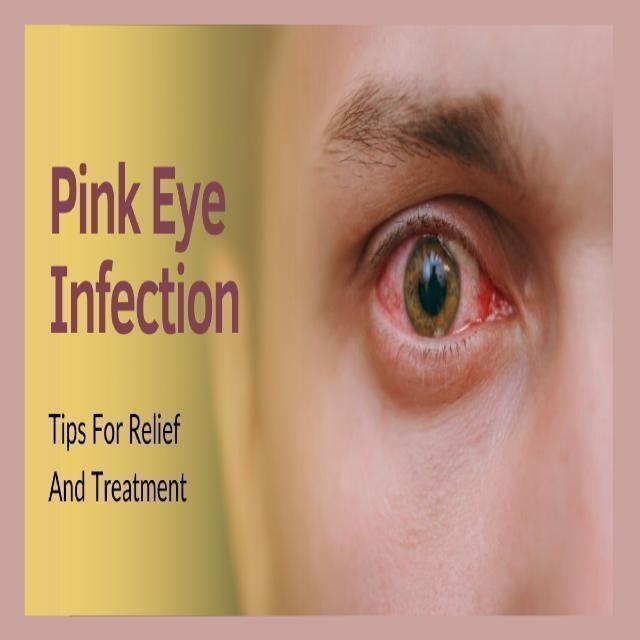Conjunctivitis: (370, 248, 513, 334)
